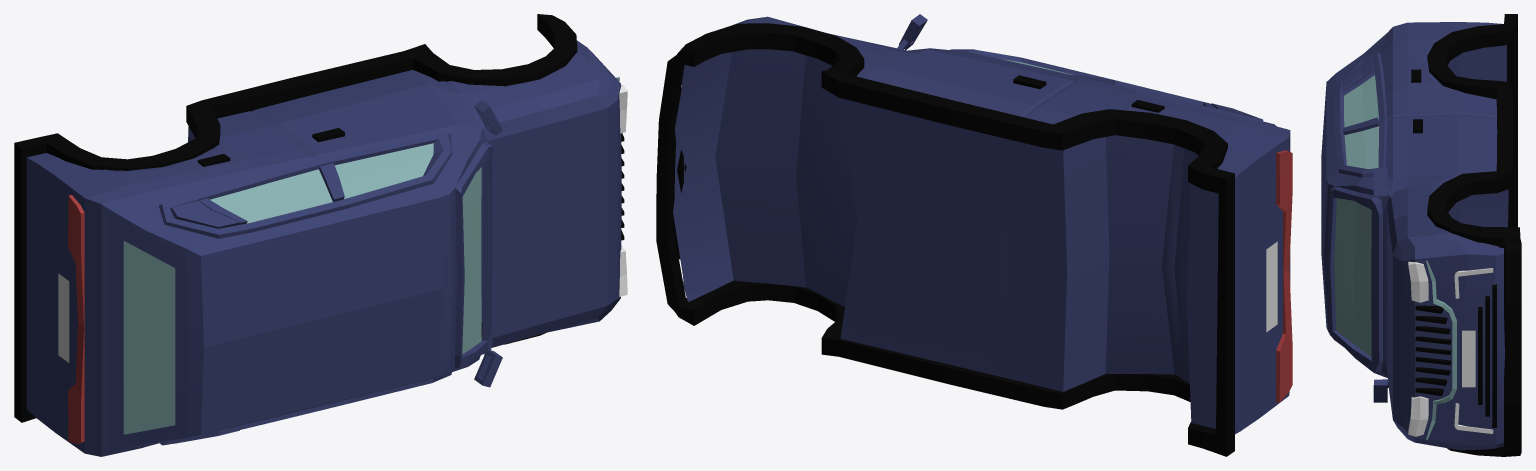
The model's file is togg.glb.
3 renders of one model, left to right at view 1: azimuth 30°, elevation 25°; view 2: azimuth 150°, elevation 25°; view 3: azimuth 270°, elevation 25°, orthographic. The views are drawn at different scales.
Parts seen in each view (by area): view 1: shadeDarkblue, shadeBlue, shadeBlack, shadeRed, shadeWhite; view 2: shadeDarkblue, shadeBlack, shadeRed, shadeWhite; view 3: shadeDarkblue, shadeBlack, shadeBlue, shadeWhite.
Boxes of the visible parts, left/top/right/bottom form: shadeDarkblue: left=26, top=40, right=621, bottom=456; shadeBlue: left=123, top=76, right=619, bottom=434; shadeBlack: left=14, top=14, right=624, bottom=422; shadeRed: left=68, top=195, right=84, bottom=443; shadeWhite: left=58, top=85, right=627, bottom=362; shadeDarkblue: left=673, top=14, right=1290, bottom=434; shadeBlack: left=656, top=23, right=1234, bottom=456; shadeRed: left=1276, top=150, right=1292, bottom=402; shadeWhite: left=1266, top=241, right=1277, bottom=332; shadeDarkblue: left=1321, top=22, right=1508, bottom=450; shadeBlack: left=1411, top=14, right=1521, bottom=456; shadeBlue: left=1334, top=75, right=1456, bottom=440; shadeWhite: left=1408, top=261, right=1493, bottom=436.
Size of the model in its own units: 2.08 by 0.995 by 0.7711.
